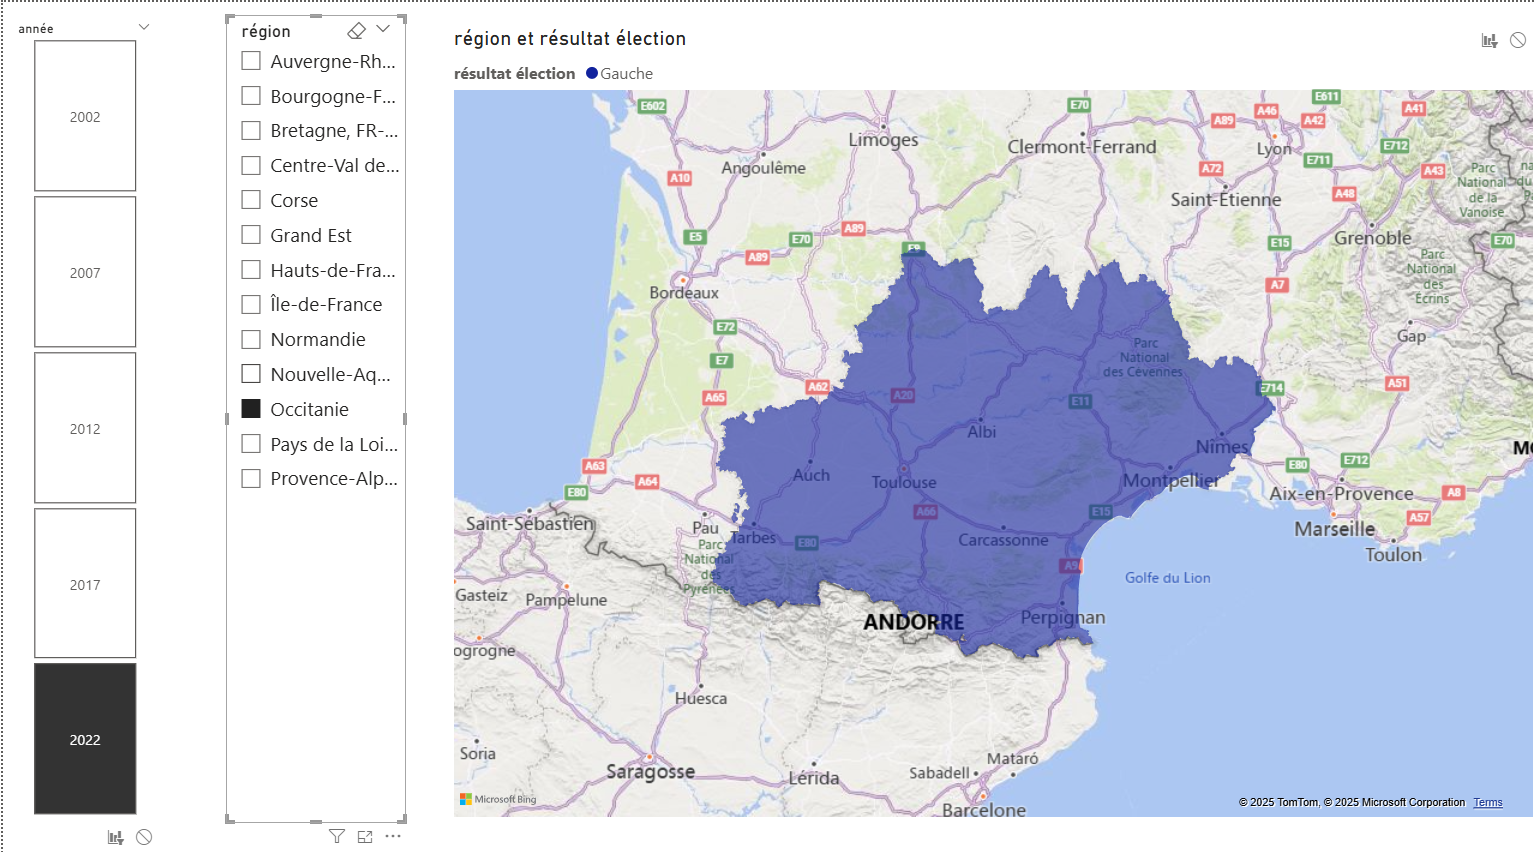

The dashboard page shown, as its layout file describes it:
{"tool":"powerbi","page":{"name":"Cartographie des résultats élections par région","canvas":[1280,720],"ordinal":2},"visuals":[{"type":"filledMap","fields":{"Category":["Données élections.région"],"Series":["Données élections.résultat élection"]},"box":[370.8,20,909.2,664.2],"z":0},{"type":"slicer","fields":{"Values":["Données élections.année"]},"box":[0,10.8,135,673.3],"z":1},{"type":"slicer","fields":{"Values":["Données élections.région"]},"box":[185.5,11,150,673],"z":2}]}

Visuals, with their boxes on the page's 1280x720 design canvas (x1, y1, x2, y2). These are canvas units, not pixel positions in the 1536x852 screenshot, which may show the page scaled, cropped or inside an application window:
filledMap - Données élections.région x Données élections.résultat élection: 371:20:1280:684
slicer - Données élections.année: 0:11:135:684
slicer - Données élections.région: 186:11:336:684
